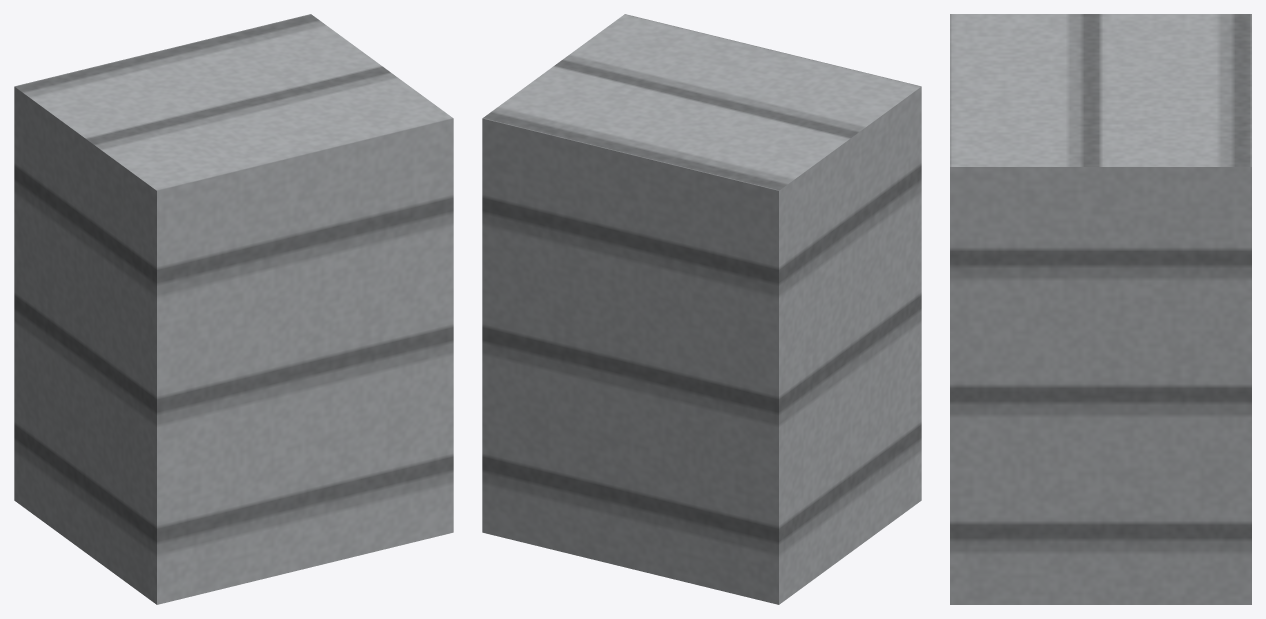
Rendered from standard_coffee_machine.glb.
The picture shows the model from 3 angles, left to right: view 1: azimuth 30°, elevation 25°; view 2: azimuth 150°, elevation 25°; view 3: azimuth 270°, elevation 25°; orthographic projection. The views are drawn at different scales.
Visible parts, largest first — view 1: standard_coffee_machine-col; view 2: standard_coffee_machine-col; view 3: standard_coffee_machine-col.
Boxes of the visible parts, left/top/right/bottom form: standard_coffee_machine-col: left=14, top=14, right=453, bottom=604; standard_coffee_machine-col: left=482, top=14, right=921, bottom=604; standard_coffee_machine-col: left=950, top=14, right=1251, bottom=604.
Size of the model in its own units: 0.3 by 0.4 by 0.25.
1 material, 1 textured.
